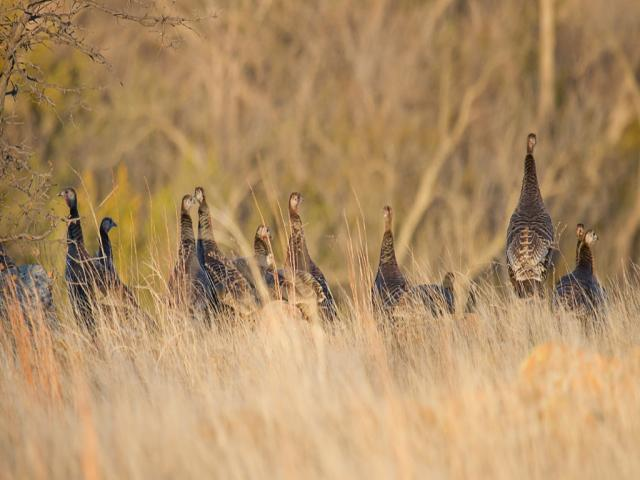Bird: (57, 181, 338, 334), (368, 205, 452, 325), (505, 132, 556, 299), (0, 244, 54, 336), (548, 224, 600, 316), (576, 225, 610, 314)
